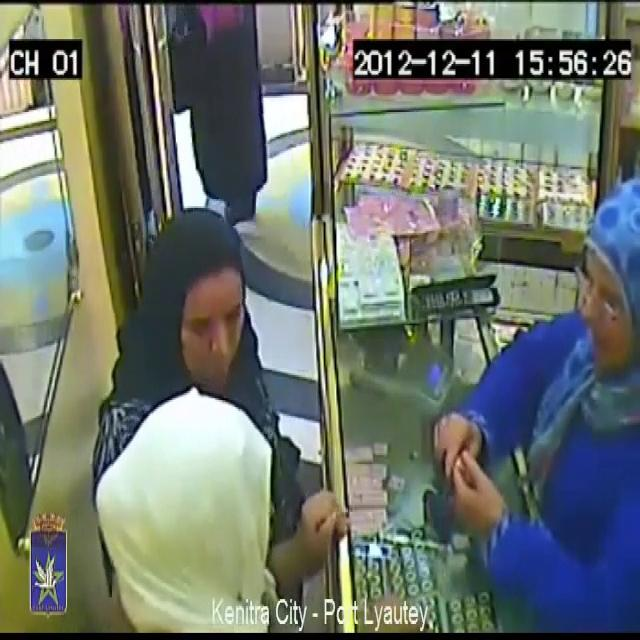Product: (438, 431, 464, 487)
normal: (105, 364, 323, 640), (148, 0, 286, 228), (151, 213, 255, 391)
shoplifting: (382, 144, 640, 627)
